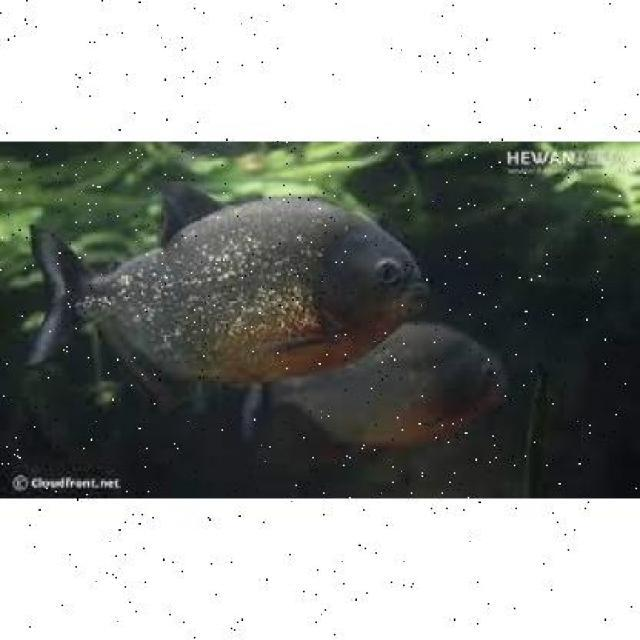ikan-pacu: (31, 193, 424, 382), (248, 319, 512, 453)
